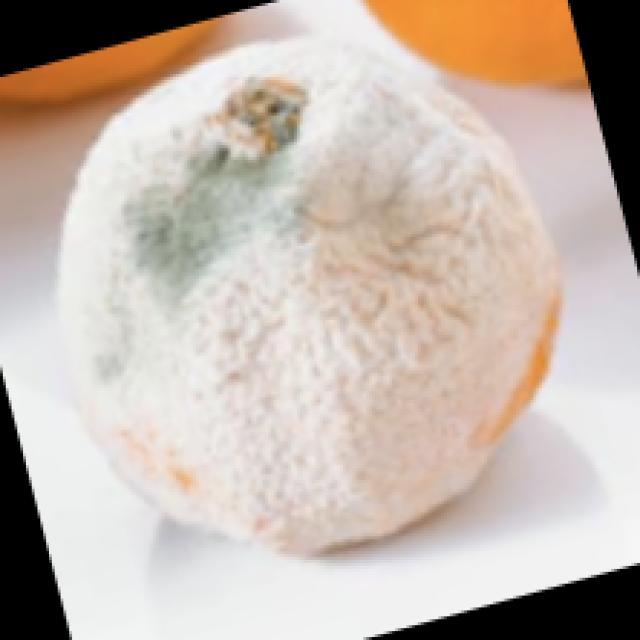sangat-busuk: (58, 7, 559, 553)
